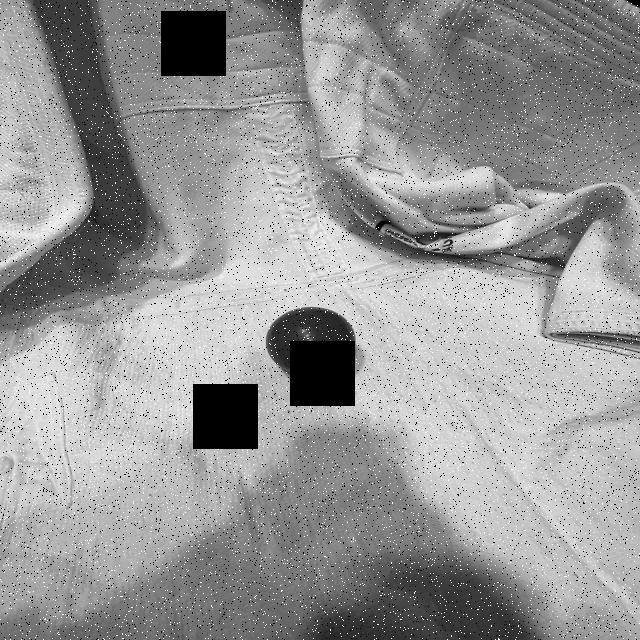ball: (264, 304, 358, 380)
